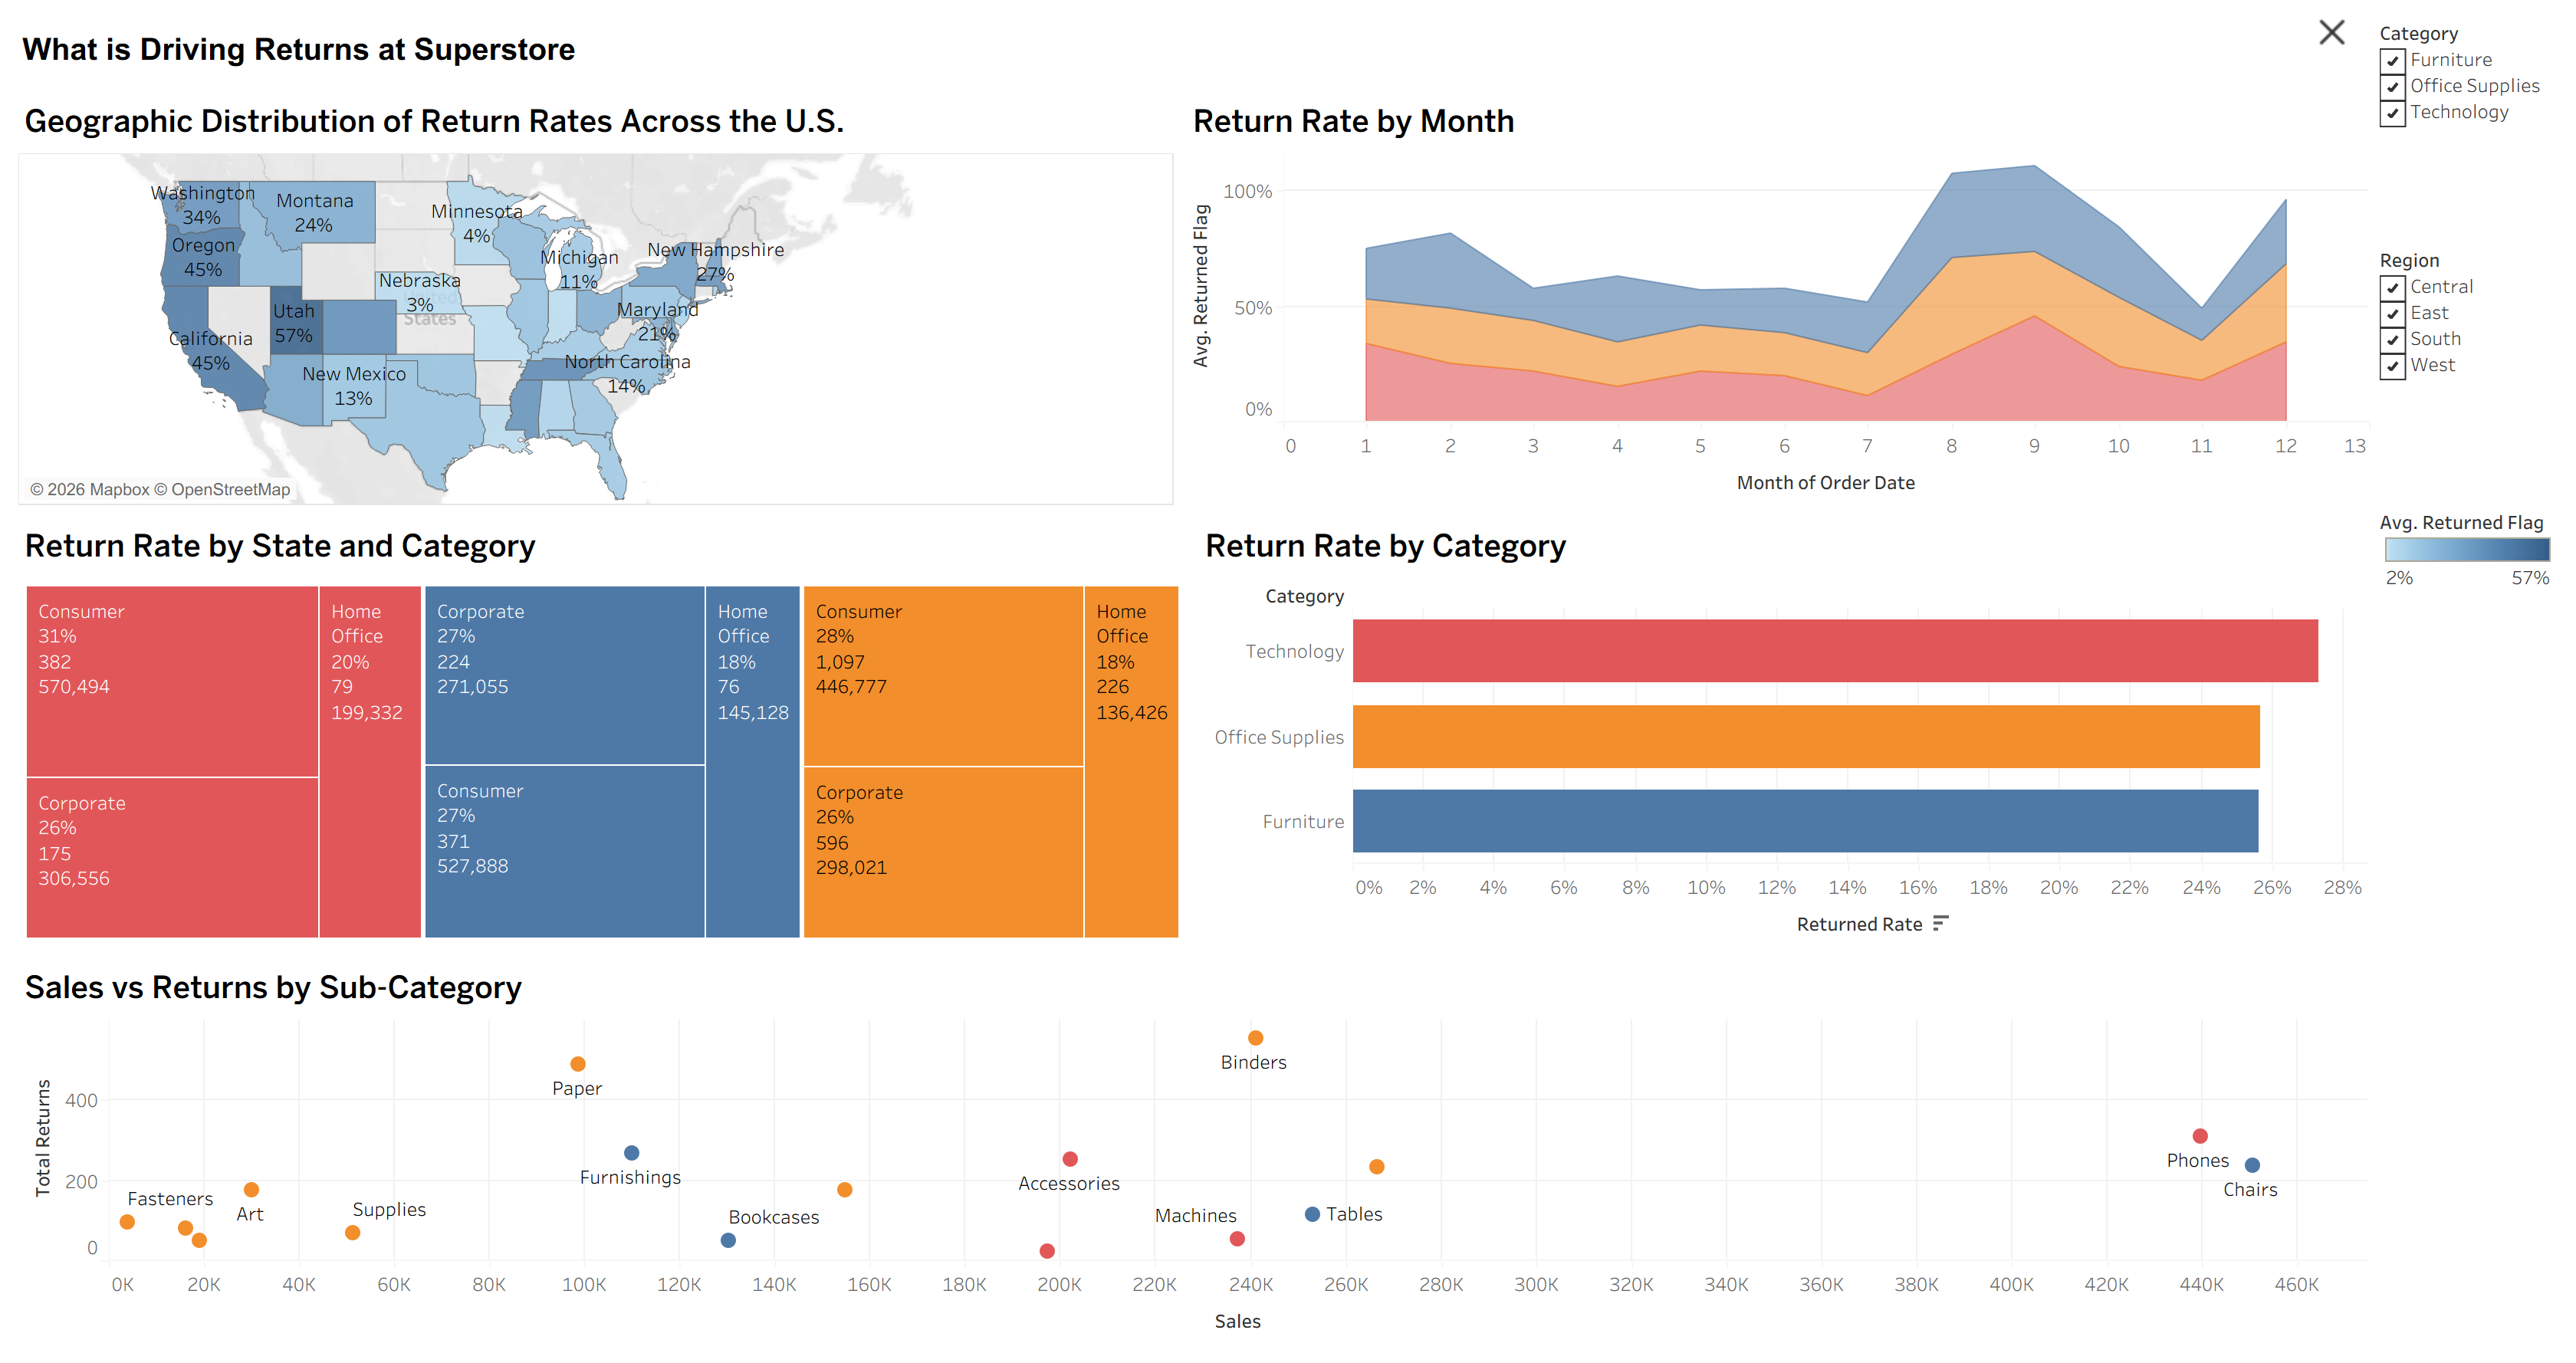

This screenshot's page, from the dashboard's own definition file:
{"tool":"tableau","page":{"name":"Dashboard 1","canvas":[1000,1000],"units":"permille","ordinal":0},"visuals":[{"type":"text","box":[4.8,9.5,917,54.8]},{"type":"dashboard-object","box":[898.2,9.5,14.3,28.5]},{"type":"filter","title":"Return Rate by State","param":"[federated.1s83zia08yjbxn1fv2opk1idhrvf].[none:Category:nk]","box":[921.7,9.5,73.5,176]},{"type":"worksheet","title":"Return Rate by State","mark":"Automatic","box":[4.8,64.3,453.4,311.2]},{"type":"worksheet","title":"composite one","mark":"Area","rows":["Calculation_1395888384012288"],"cols":["Order Date"],"box":[458.1,64.3,463.6,311.2]},{"type":"filter","title":"Return Rate by State","param":"[federated.1s83zia08yjbxn1fv2opk1idhrvf].[none:Region:nk]","box":[921.7,185.5,73.5,199.8]},{"type":"worksheet","title":"Return Rate by State and Category","mark":"Automatic","box":[4.8,375.5,458.4,323.6]},{"type":"worksheet","title":"Return Rate by Category","mark":"Automatic","rows":["Category"],"cols":["Calculation_1395888384012288"],"box":[463.2,375.5,458.5,323.6]},{"type":"legend","title":"Return Rate by State","param":"[federated.1s83zia08yjbxn1fv2opk1idhrvf].[avg:Calculation_1395888384012288:qk]","box":[921.7,385.2,73.5,126]},{"type":"worksheet","title":"Sales vs Returns by Sub-Category","mark":"Circle","rows":["Calculation_1395888384012288"],"cols":["Sales"],"box":[4.8,699.2,917,291.3]}]}

Visuals, with their boxes on the dashboard's canvas, which has no fixed pixel size, in thousandths of its width and height (x1, y1, x2, y2). These are canvas units, not pixel positions in the 2576x1363 screenshot, which may show the page scaled, cropped or inside an application window:
text: [left=5, top=10, right=922, bottom=64]
dashboard-object: [left=898, top=10, right=912, bottom=38]
"Return Rate by State" filter: [left=922, top=10, right=995, bottom=186]
"Return Rate by State" worksheet: [left=5, top=64, right=458, bottom=376]
"composite one" worksheet (Area marks): [left=458, top=64, right=922, bottom=376]
"Return Rate by State" filter: [left=922, top=186, right=995, bottom=385]
"Return Rate by State and Category" worksheet: [left=5, top=376, right=463, bottom=699]
"Return Rate by Category" worksheet: [left=463, top=376, right=922, bottom=699]
"Return Rate by State" legend: [left=922, top=385, right=995, bottom=511]
"Sales vs Returns by Sub-Category" worksheet (Circle marks): [left=5, top=699, right=922, bottom=990]
